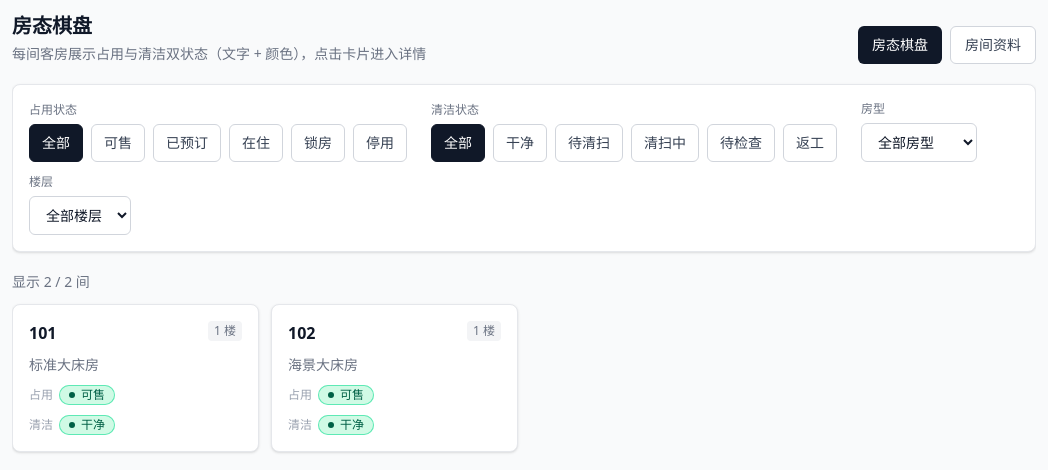
Test: RoomsManagementView（alpha.9.6 F1） › 房间数量来自后端 COUNT（总数 / 启用 / 停用）
This screenshot has width=1048, height=470.
Click the tab "房间资料": (993, 45) [950,26,1036,64]
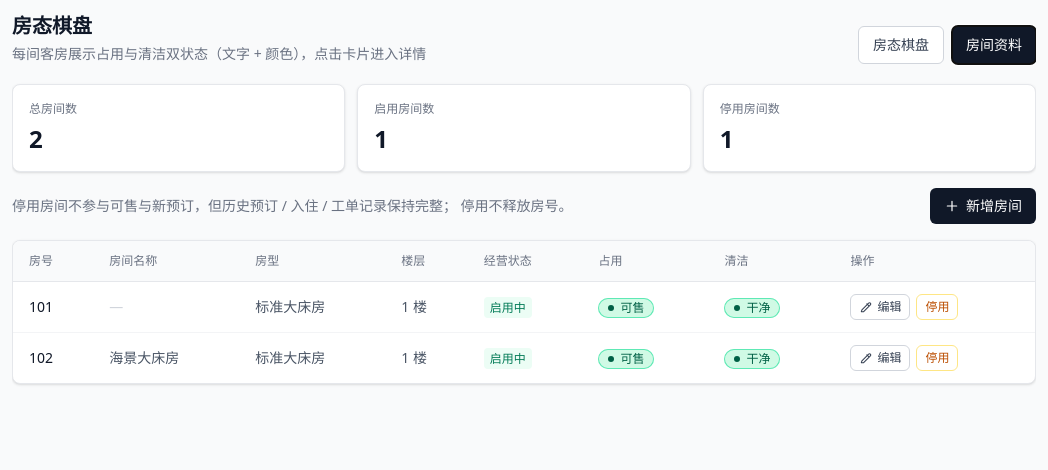
Now the text "总房间数" is shown, box [29,100,77,117]
Now the text "启用房间数" is shown, box [374,100,434,117]
Now the text "停用房间数" is shown, box [720,100,780,117]
